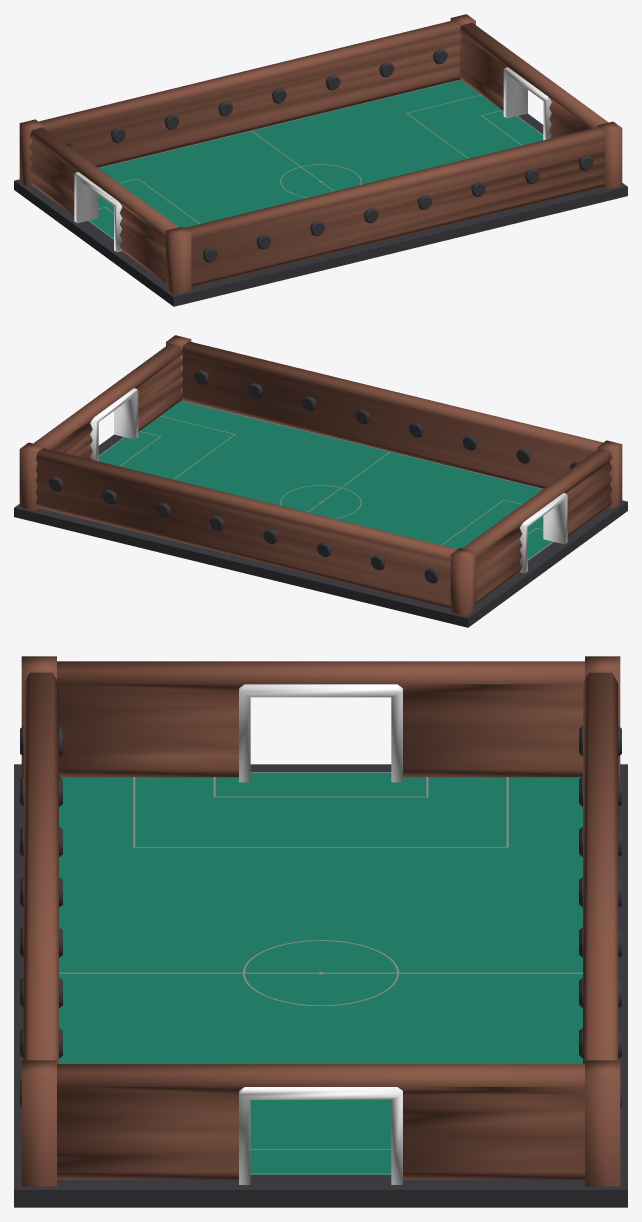
The model's file is hard_table.glb.
The picture shows the model from 3 angles, top to bottom: view 1: azimuth 30°, elevation 25°; view 2: azimuth 150°, elevation 25°; view 3: azimuth 270°, elevation 25°; orthographic projection. The views are drawn at different scales.
Visible parts, largest first — view 1: Hard_Merged; view 2: Hard_Merged; view 3: Hard_Merged.
Part boxes in pixels (x1=…): Hard_Merged: x1=14, y1=14, x2=627, y2=306; Hard_Merged: x1=14, y1=335, x2=627, y2=627; Hard_Merged: x1=14, y1=656, x2=627, y2=1207.
Bounding box in the file's own units: 1.29 × 0.1825 × 0.7858.
1 material, 1 textured.
